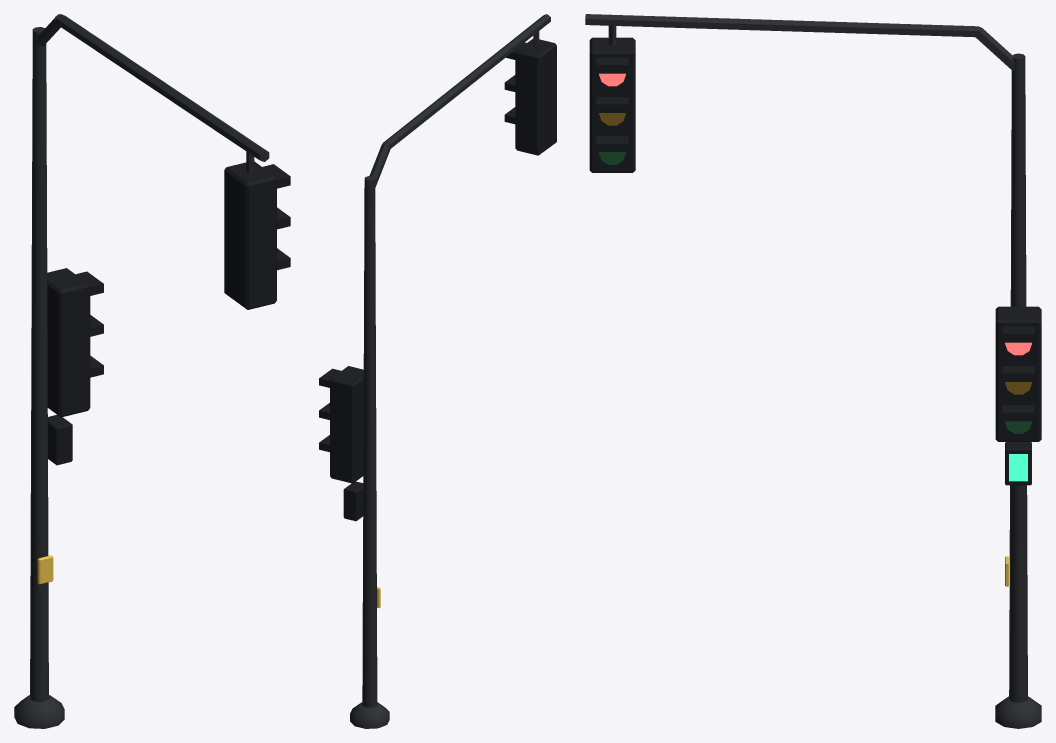
Rendered from traffic_light.glb.
3 renders of one model, left to right at view 1: azimuth 30°, elevation 25°; view 2: azimuth 150°, elevation 25°; view 3: azimuth 270°, elevation 25°, orthographic. The views are drawn at different scales.
Parts seen in each view (by area): view 1: traffic_light; view 2: traffic_light; view 3: traffic_light.
Part boxes in pixels (<box>): traffic_light: <box>14,14,290,728</box>; traffic_light: <box>319,14,556,728</box>; traffic_light: <box>585,14,1041,728</box>.
Size of the model in its own units: 0.64 by 5.74 by 3.37.
